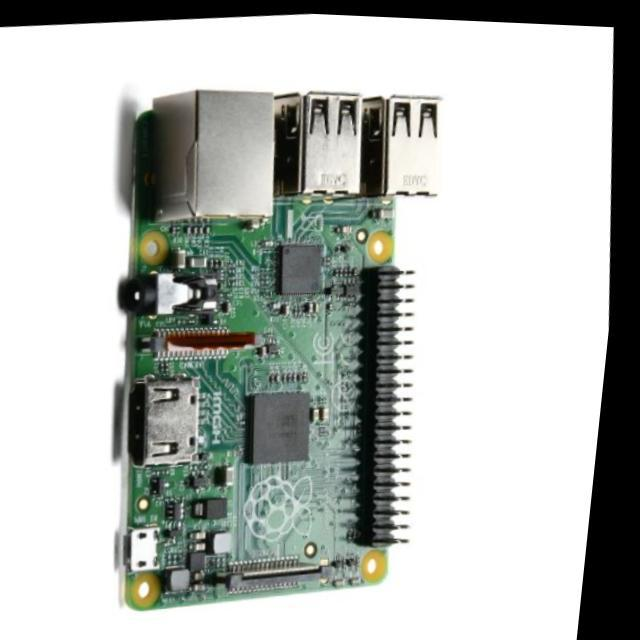Raspberry Pi 1 B-: (117, 92, 441, 611)
